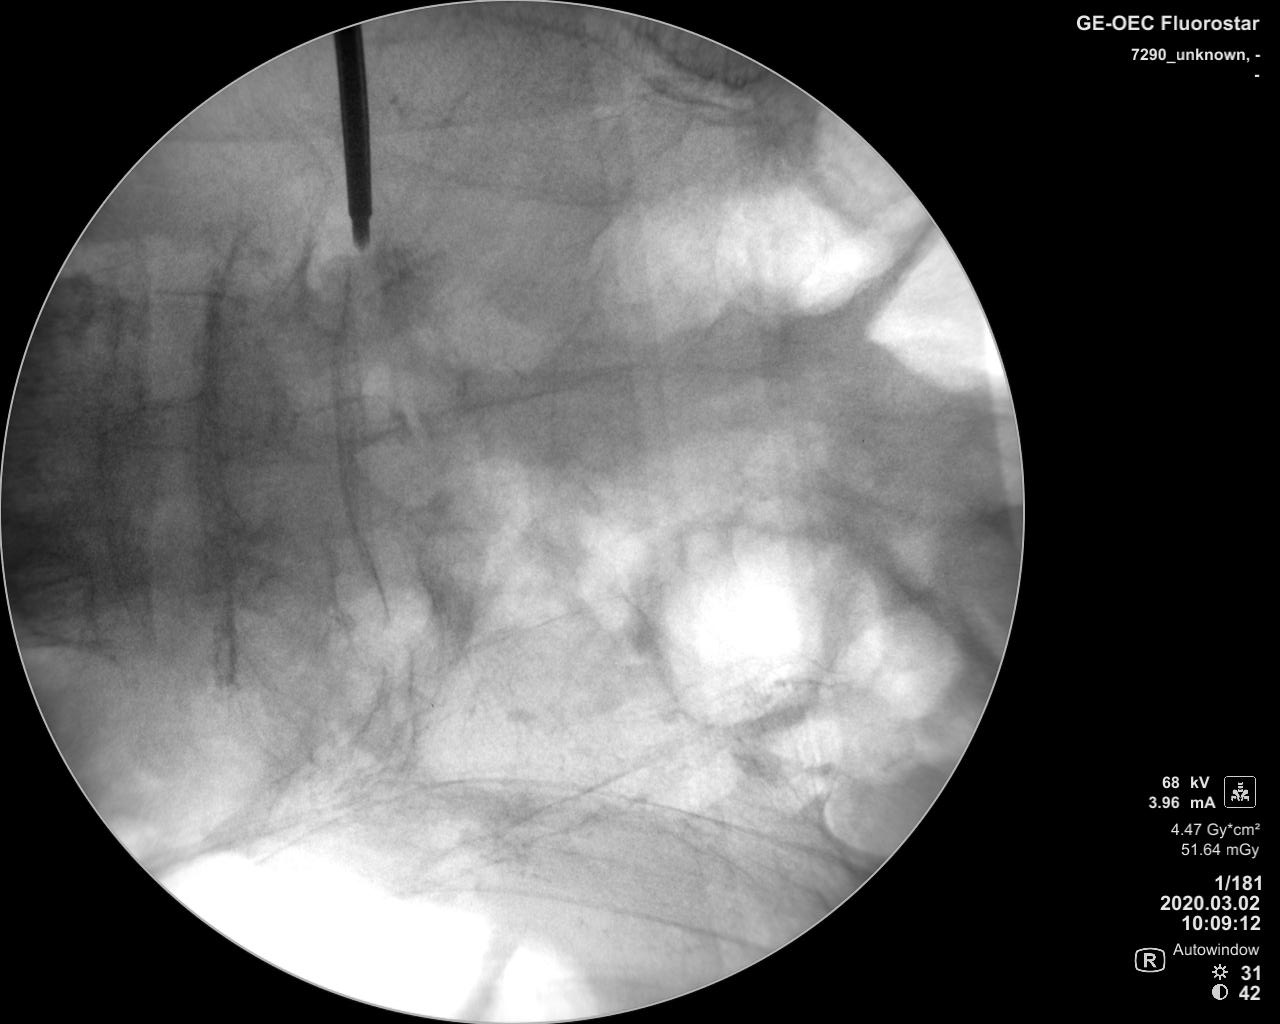eyes: (290, 247, 385, 338)
line: (191, 259, 249, 688), (338, 267, 396, 629), (101, 271, 139, 658)
nose: (88, 386, 269, 455), (290, 393, 410, 442)
